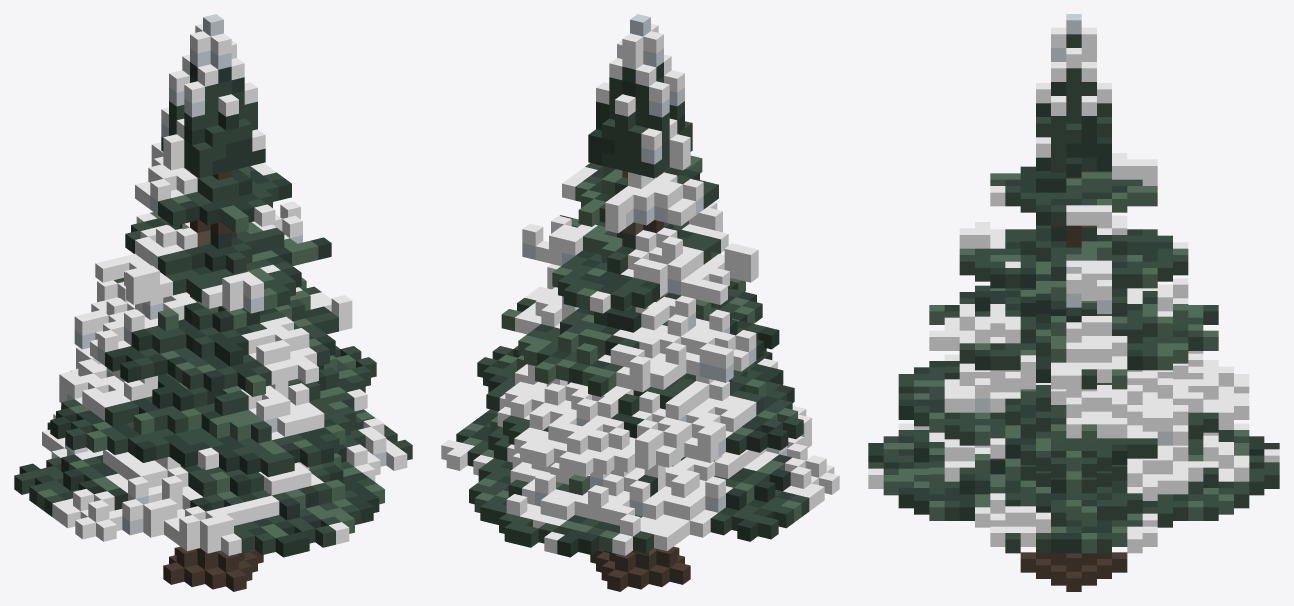
The model's file is SM_VoxelPine_Tree02.glb.
3 renders of one model, left to right at view 1: azimuth 30°, elevation 25°; view 2: azimuth 150°, elevation 25°; view 3: azimuth 270°, elevation 25°, orthographic.
Parts seen in each view (by area): view 1: SM_VoxelPine_Tree02; view 2: SM_VoxelPine_Tree02; view 3: SM_VoxelPine_Tree02.
Boxes of the visible parts, x1=… form: SM_VoxelPine_Tree02: x1=14, y1=14, x2=412, y2=591; SM_VoxelPine_Tree02: x1=441, y1=14, x2=839, y2=591; SM_VoxelPine_Tree02: x1=868, y1=14, x2=1279, y2=591.
Bounding box in the file's own units: 5 × 8 × 5.4.
Materials: 1 (1 with a texture image).
